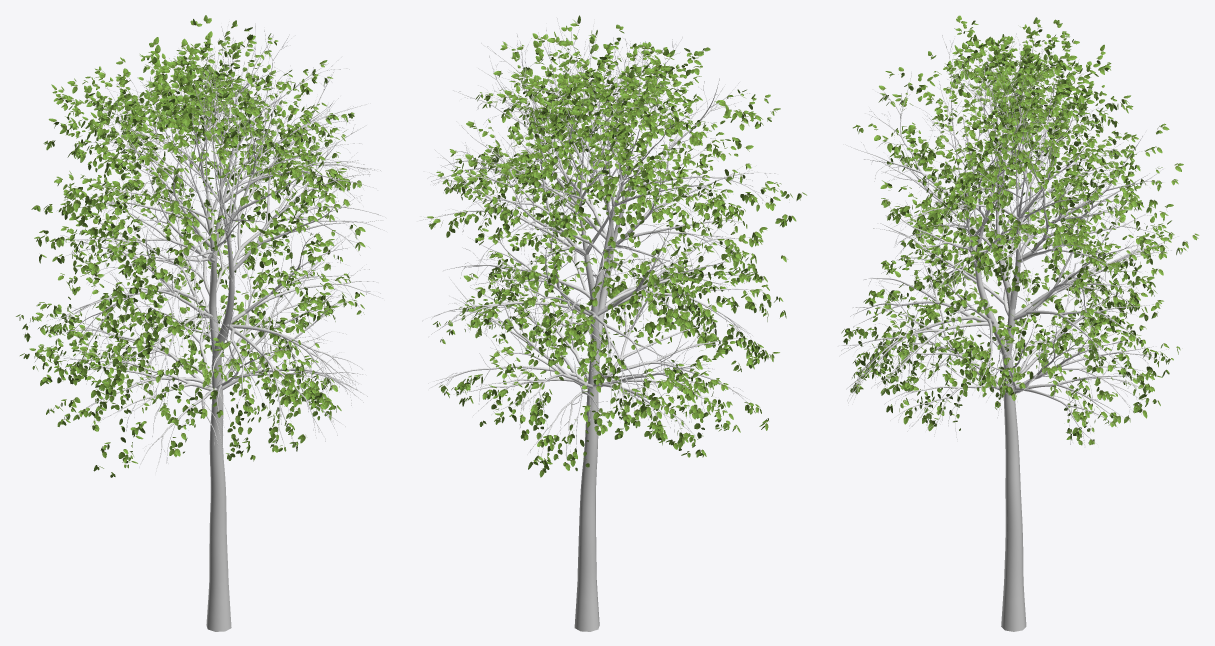
Rendered from Tree_01_.fbx.
The picture shows the model from 3 angles, left to right: view 1: azimuth 30°, elevation 25°; view 2: azimuth 150°, elevation 25°; view 3: azimuth 270°, elevation 25°; orthographic projection. The views are drawn at different scales.
Visible parts, largest first — view 1: leaves.001, tree; view 2: leaves.001, tree; view 3: leaves.001, tree.
Part boxes in pixels (x1,y1,x2,y2): leaves.001: [16, 15, 365, 477]; tree: [47, 21, 386, 631]; leaves.001: [427, 15, 806, 477]; tree: [419, 18, 777, 631]; leaves.001: [841, 15, 1199, 445]; tree: [839, 33, 1178, 631].
Size of the model in its own units: 776 by 1425 by 791.
2 materials, 1 textured.
